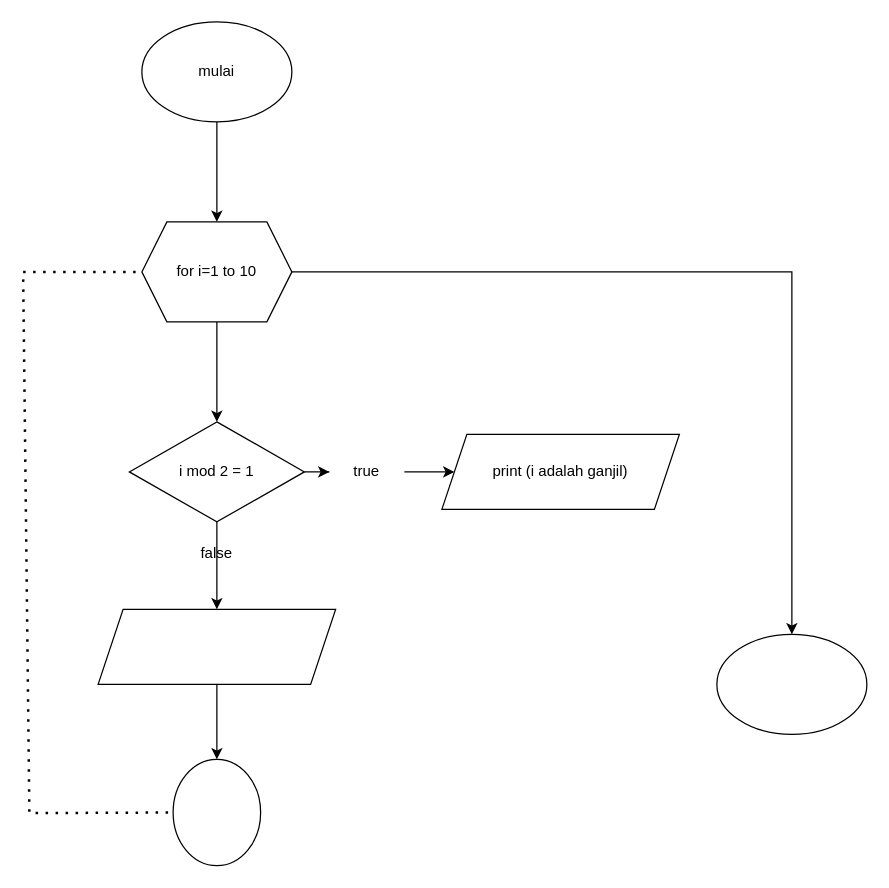
Some shapes in this 889 by 888 pixel diagram are drawn without their labels. The shapes that lost their labels are listed below. From the top down, each one's box as (x1, y1, x2, y2) in pixels, then its label:
(97, 608, 336, 684): print (i adalah genap0
(716, 633, 867, 734): selesai
